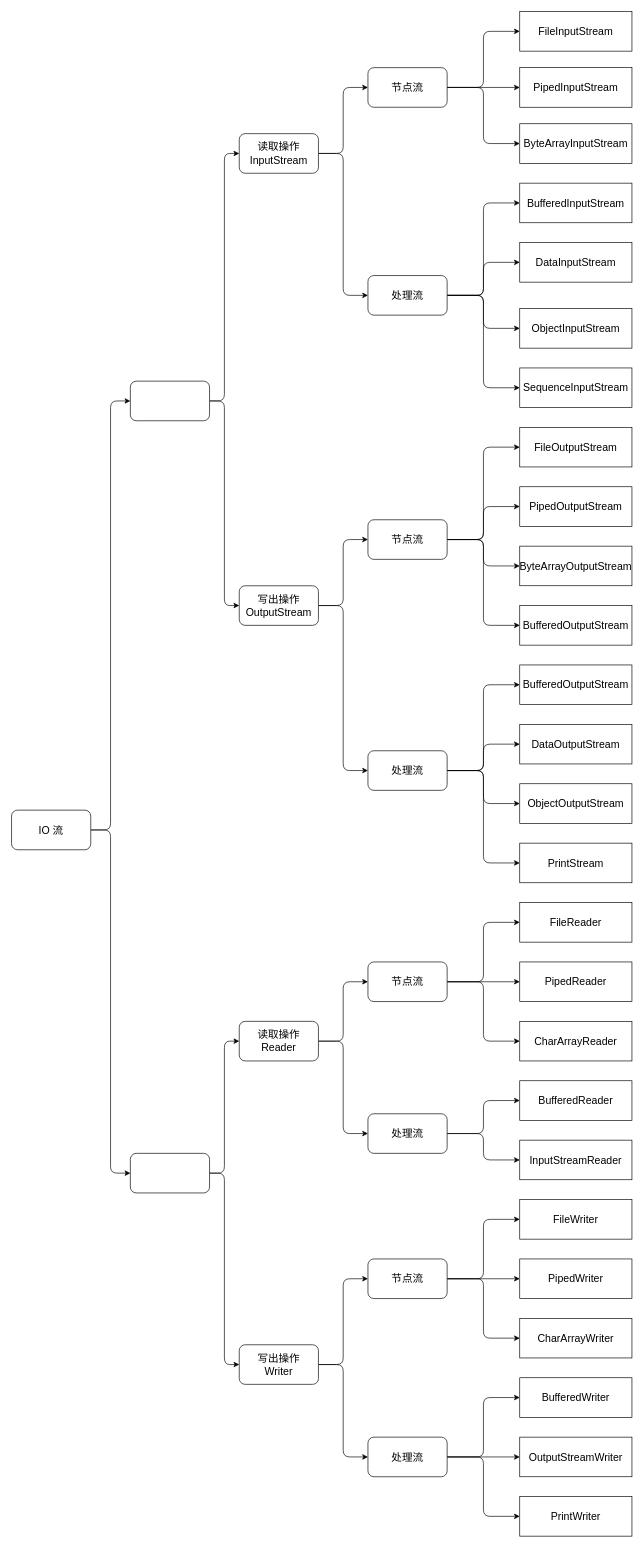
Some shapes in this 644 by 1548 pixel diagram are drawn without their labels. The shapes that lost their labels are listed below. From the top down, each one's centre as x and y in pixels, then its label:
(170,400): 字节流
(170,1173): 字符流
